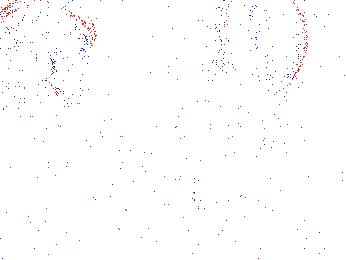moon jellyfish: (221, 1, 308, 98), (207, 82, 292, 145), (1, 1, 97, 54), (1, 23, 56, 89), (314, 53, 346, 143)
